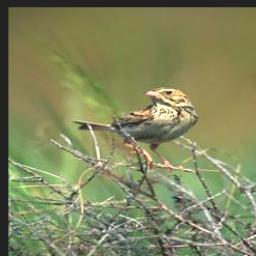Sparrow: (69, 86, 208, 177)
